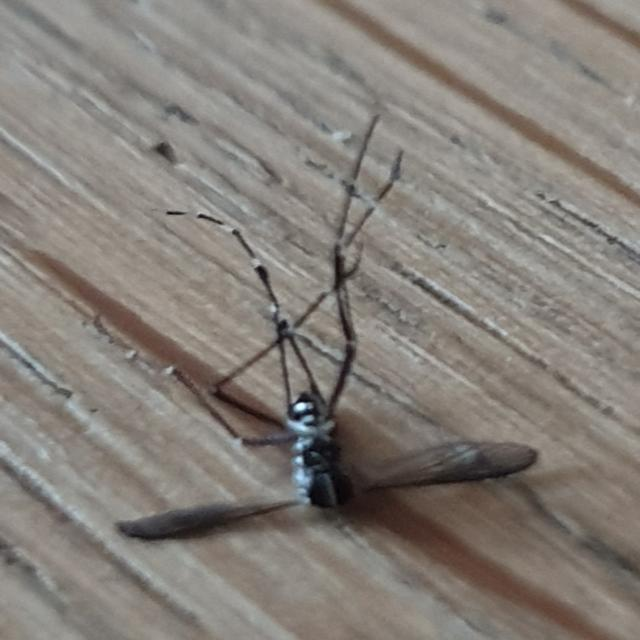albopictus: (102, 89, 492, 570)
